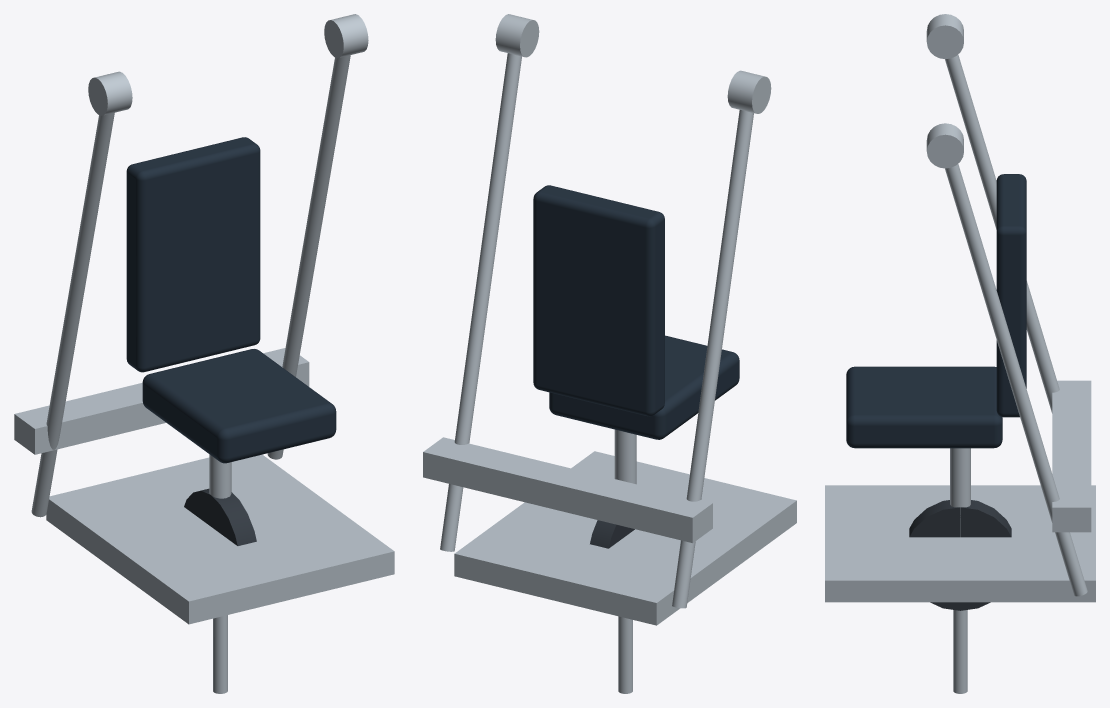
File: plate_chest_press.glb
3 views of the same model, side by side, from view 1: azimuth 30°, elevation 25°; view 2: azimuth 150°, elevation 25°; view 3: azimuth 270°, elevation 25° (orthographic). The views are drawn at different scales.
Parts seen in each view (by area): view 1: base, back, seat, Lsupport, pivotBridge, Rsupport, LweightPlate, Lpivot, Rpivot, Llink, post; view 2: back, base, pivotBridge, Lsupport, Rsupport, seat, Rpivot, Lpivot, post, Llink, LweightPlate; view 3: base, seat, Rsupport, back, pivotBridge, Lsupport, LweightPlate, Rpivot, Lpivot, post, Llink.
Boxes of the visible parts, x1,y1,x2,y2 form: base: (46, 454, 394, 624); back: (126, 137, 260, 372); seat: (142, 349, 336, 463); Lsupport: (31, 112, 114, 517); pivotBridge: (14, 348, 309, 454); Rsupport: (267, 55, 350, 459); LweightPlate: (184, 488, 256, 545); Lpivot: (88, 71, 132, 115); Rpivot: (324, 14, 368, 58); Llink: (213, 615, 227, 693); post: (209, 454, 231, 498); back: (533, 185, 664, 416); base: (454, 451, 796, 625); pivotBridge: (423, 437, 712, 543); Lsupport: (672, 110, 753, 608); Rsupport: (440, 53, 521, 551); seat: (549, 335, 739, 439); Rpivot: (495, 14, 539, 57); Lpivot: (727, 70, 771, 113); post: (614, 429, 636, 484); Llink: (618, 616, 632, 693); LweightPlate: (590, 520, 634, 548); base: (825, 485, 1095, 602); seat: (846, 366, 1002, 448); Rsupport: (945, 164, 1087, 596); back: (996, 174, 1026, 417); pivotBridge: (1052, 380, 1091, 532); Lsupport: (945, 54, 1059, 413); LweightPlate: (909, 500, 1011, 610); Rpivot: (926, 123, 963, 168); Lpivot: (926, 14, 963, 59); post: (950, 448, 970, 536); Llink: (953, 610, 967, 693).
Bounding box in the file's own units: 1 × 2.26 × 0.9.
